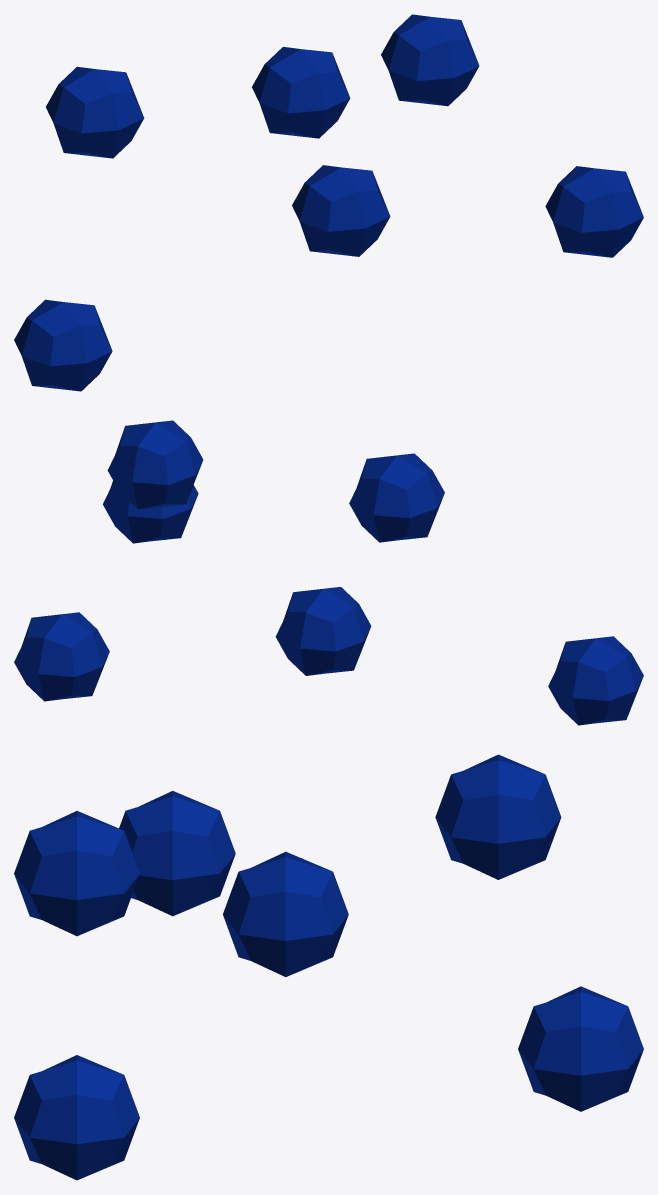
File: Berry.fbx
The picture shows the model from 3 angles, top to bottom: view 1: azimuth 30°, elevation 25°; view 2: azimuth 150°, elevation 25°; view 3: azimuth 270°, elevation 25°; orthographic projection. The views are drawn at different scales.
Parts seen in each view (by area): view 1: Berry; view 2: Berry; view 3: Berry.
Boxes of the visible parts, x1,y1,x2,y2 form: Berry: (14, 14, 643, 391); Berry: (14, 420, 643, 725); Berry: (14, 754, 643, 1180).
Bounding box in the file's own units: 0.5334 × 0.2123 × 0.3845.
